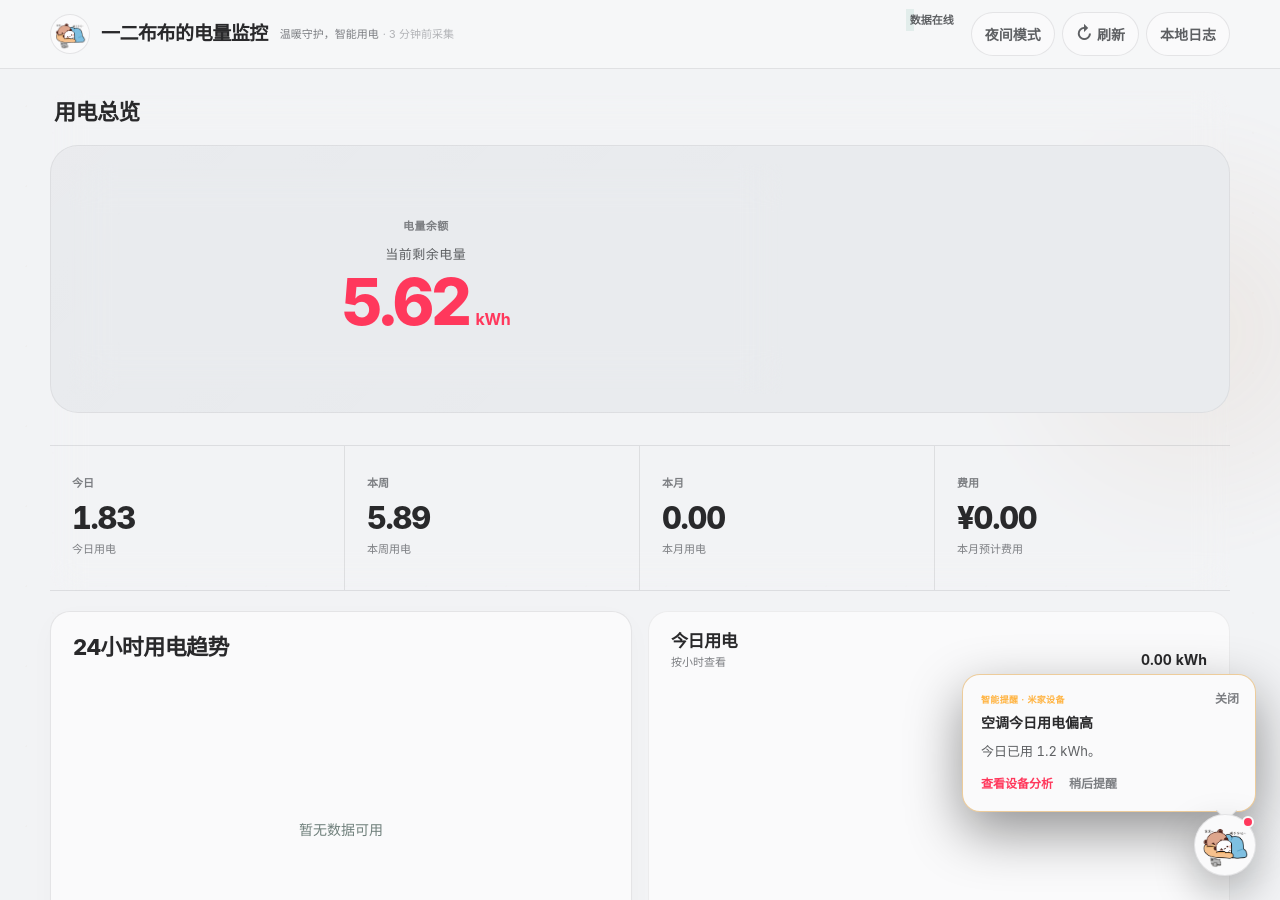
Test case: opens a Xiaomi-aware smart reminder and applies global reminder cooldown
Expected: the text "智能提醒 · 米家设备" is shown, [981,694,1065,705]
Expected: the text "空调今日用电偏高" is shown, [981,714,1093,731]
Click the button "查看设备分析" at {"x": 1017, "y": 784}, box [981,775,1053,793]
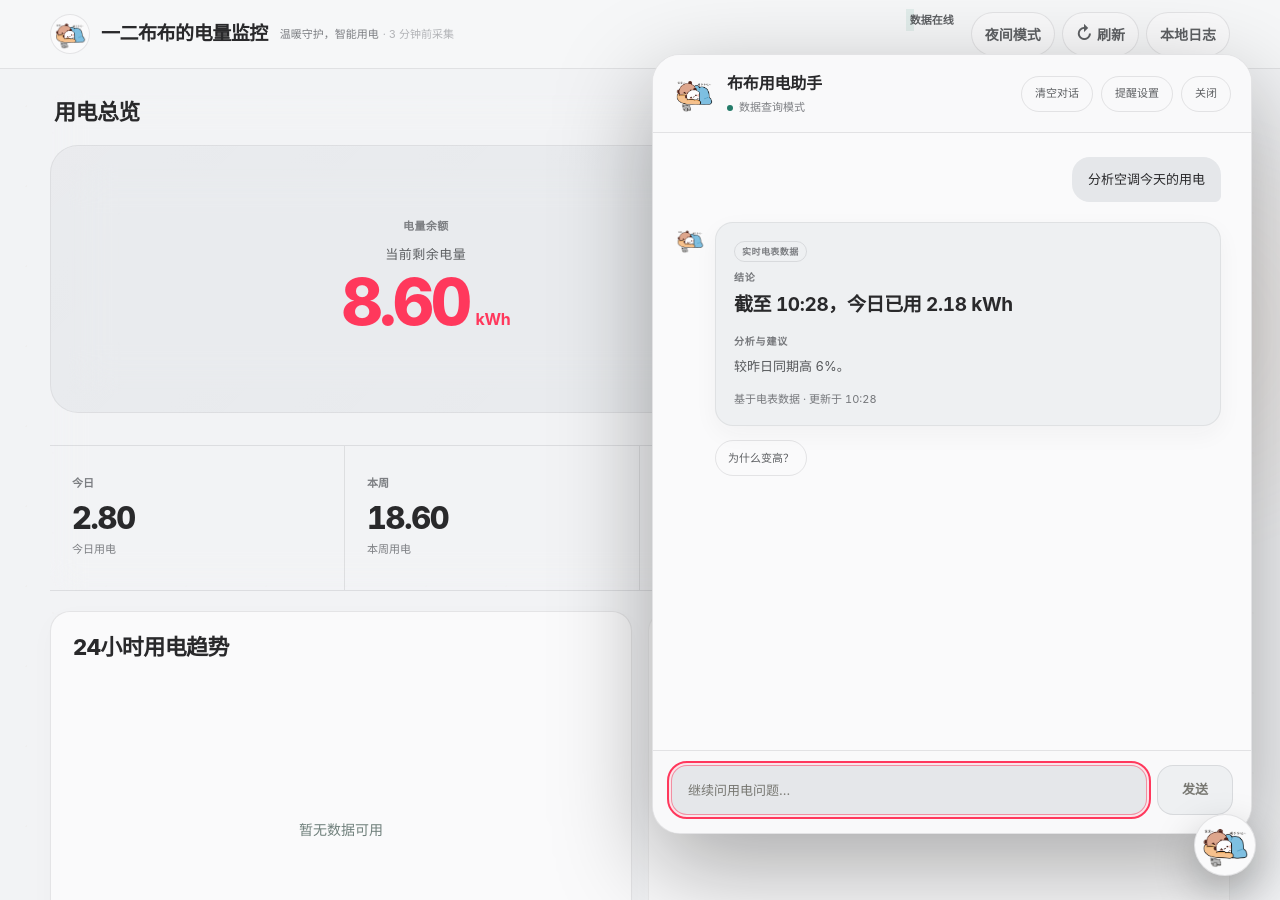
Expected: the text "分析空调今天的用电" is shown, [1072,157,1221,202]
Expected: the text "智能提醒 · 米家设备" is gone
